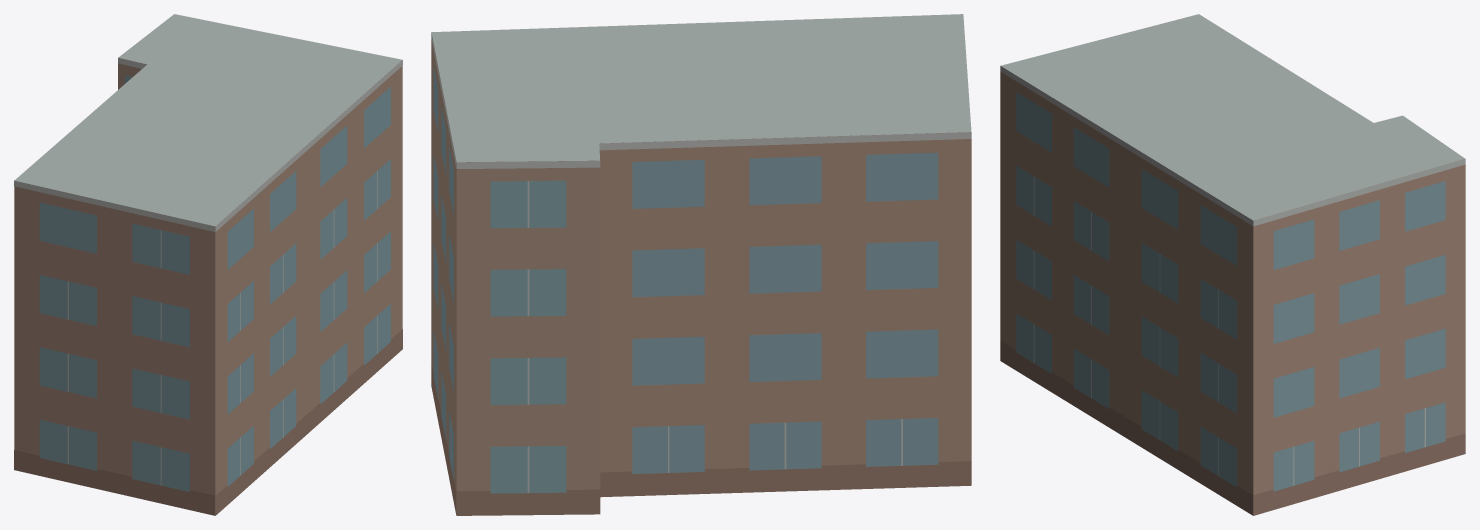
The model's file is survey-upis-32576416.glb.
The picture shows the model from 3 angles, left to right: view 1: azimuth 30°, elevation 25°; view 2: azimuth 150°, elevation 25°; view 3: azimuth 270°, elevation 25°; orthographic projection. The views are drawn at different scales.
Visible parts, largest first — view 1: survey-upis-32576416.tmp; view 2: survey-upis-32576416.tmp; view 3: survey-upis-32576416.tmp.
Part boxes in pixels (<box>): survey-upis-32576416.tmp: <box>14,14,402,515</box>; survey-upis-32576416.tmp: <box>431,14,971,515</box>; survey-upis-32576416.tmp: <box>1000,14,1465,515</box>.
Bounding box in the file's own units: 18.78 × 12.5 × 17.86.
